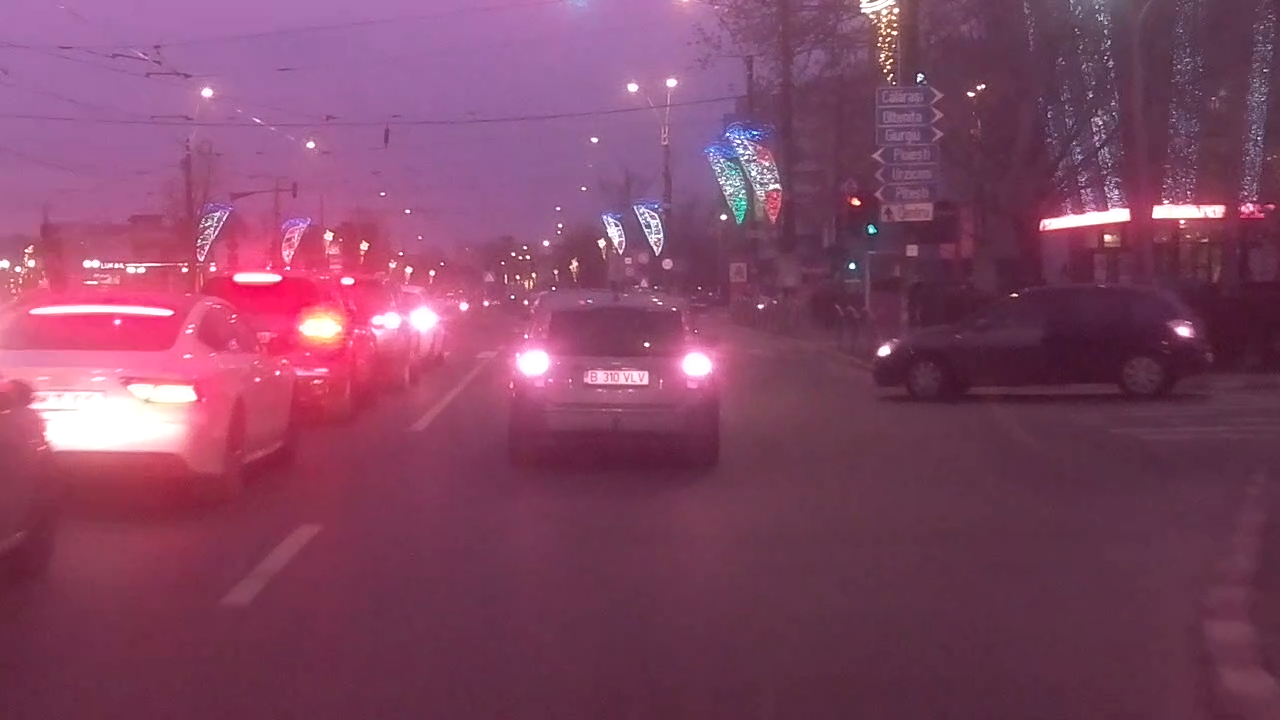license-plate: (579, 367, 653, 388)
